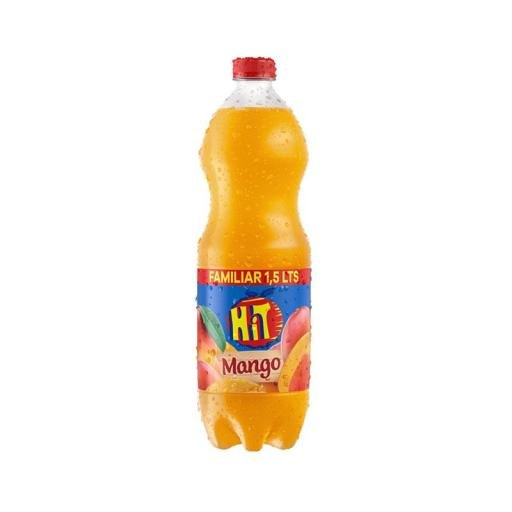JugoHM: (176, 23, 330, 462)
